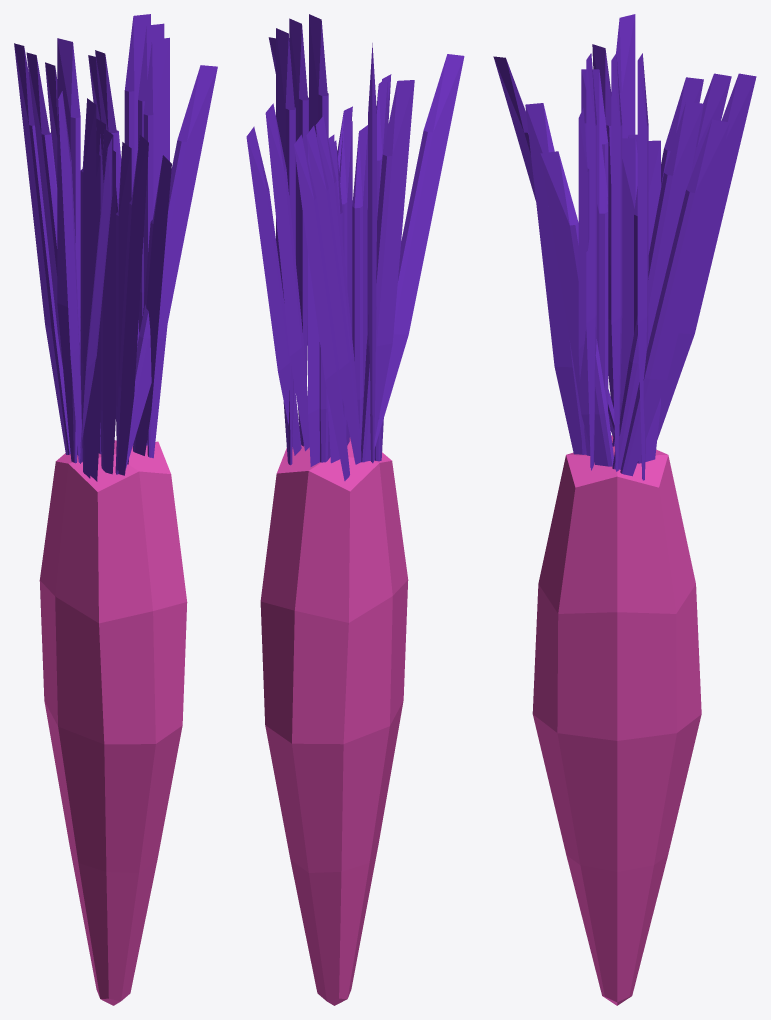
Rendered from Carrot_cursed_PS1.fbx.
3 views of the same model, side by side, from view 1: azimuth 30°, elevation 25°; view 2: azimuth 150°, elevation 25°; view 3: azimuth 270°, elevation 25° (orthographic).
Visible parts, largest first — view 1: Cube.002, Cube.001; view 2: Cube.002, Cube.001; view 3: Cube.002, Cube.001.
Boxes of the visible parts, box(x1,y1,x2,y2) form: Cube.002: box(39, 440, 187, 1005); Cube.001: box(14, 14, 217, 481); Cube.002: box(260, 437, 408, 1005); Cube.001: box(246, 14, 464, 480); Cube.002: box(532, 435, 701, 1005); Cube.001: box(493, 14, 756, 480).
Size of the model in its own units: 47.57 by 289 by 71.18.
